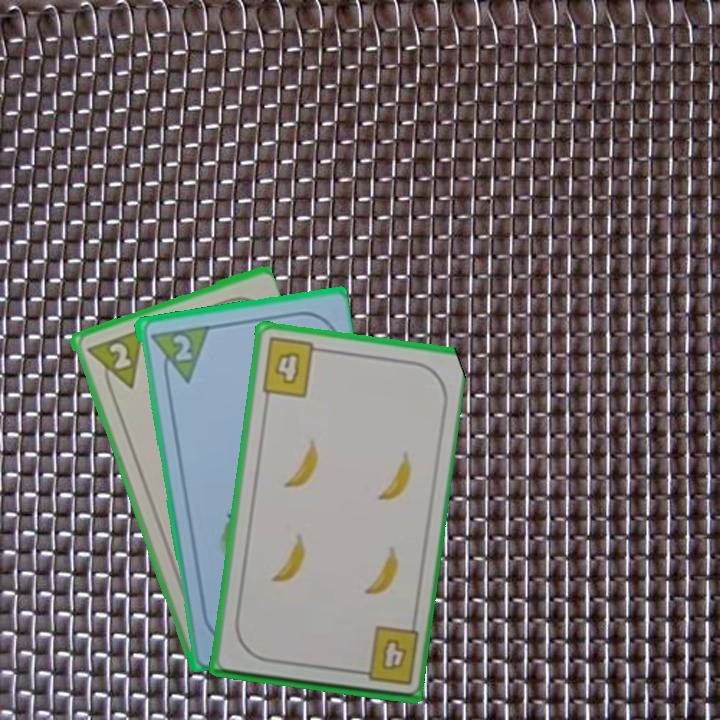2p: (82, 325, 146, 398), (169, 330, 194, 364)
4b: (350, 623, 421, 689), (258, 334, 326, 400)
